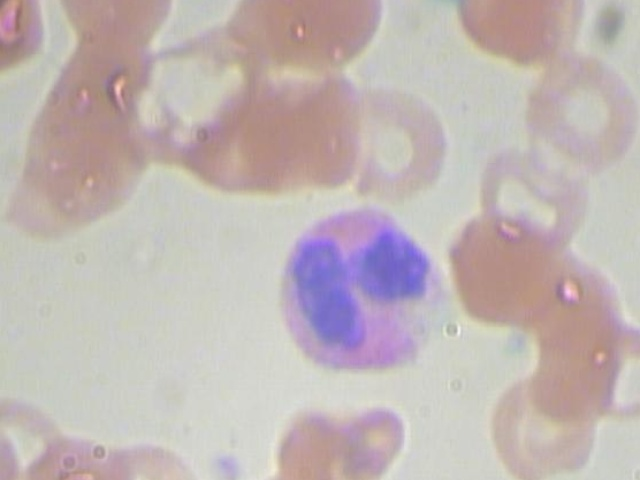Platelets: (202, 441, 253, 480), (416, 0, 469, 1)
RBC: (330, 69, 466, 218), (461, 106, 597, 255), (437, 196, 573, 345), (511, 27, 640, 176), (186, 61, 301, 198), (513, 233, 629, 361), (511, 300, 627, 427), (0, 111, 104, 247), (484, 360, 600, 480), (223, 0, 393, 76), (452, 0, 609, 67), (572, 307, 640, 435), (48, 0, 190, 61), (0, 385, 75, 480), (103, 430, 208, 480), (10, 430, 114, 480), (0, 0, 55, 84)
WBC: (261, 195, 451, 397)
